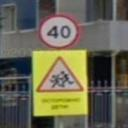speed_limit_40: (36, 14, 81, 50)
